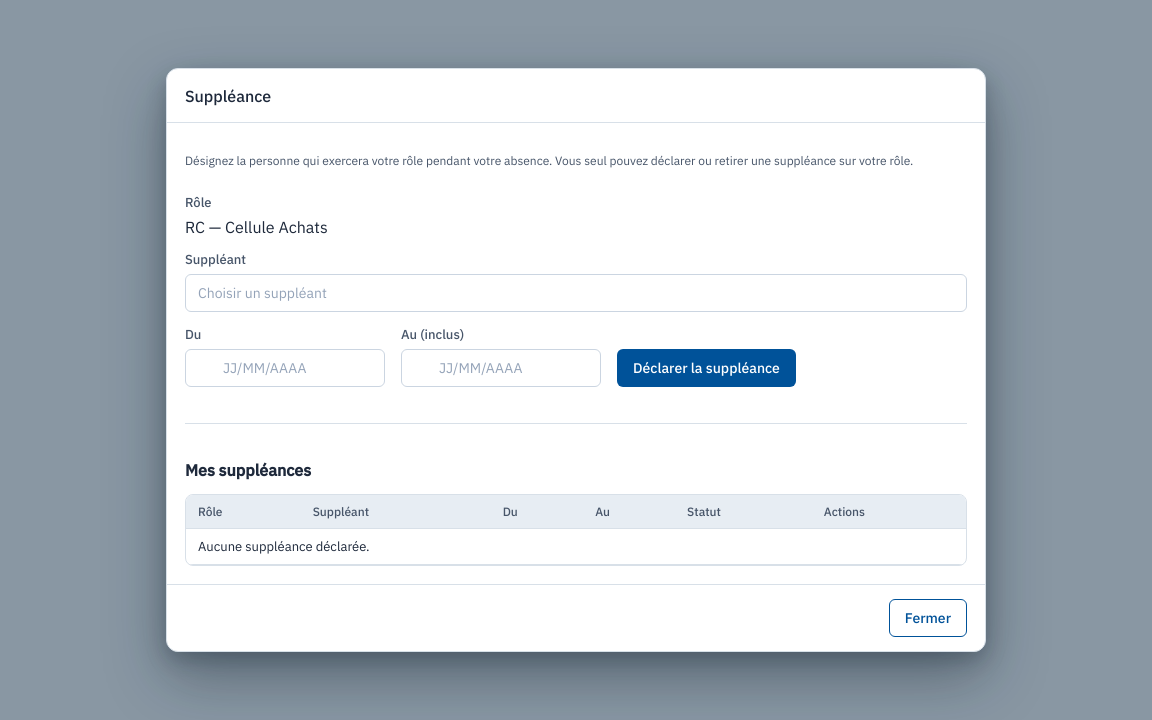
Test: SuppleanceModal — déclaration › accepte une suppléance qui commence aujourd'hui
Step 1. Click the button "Choisir un suppléant" → click(262, 293), box [185, 274, 967, 312]
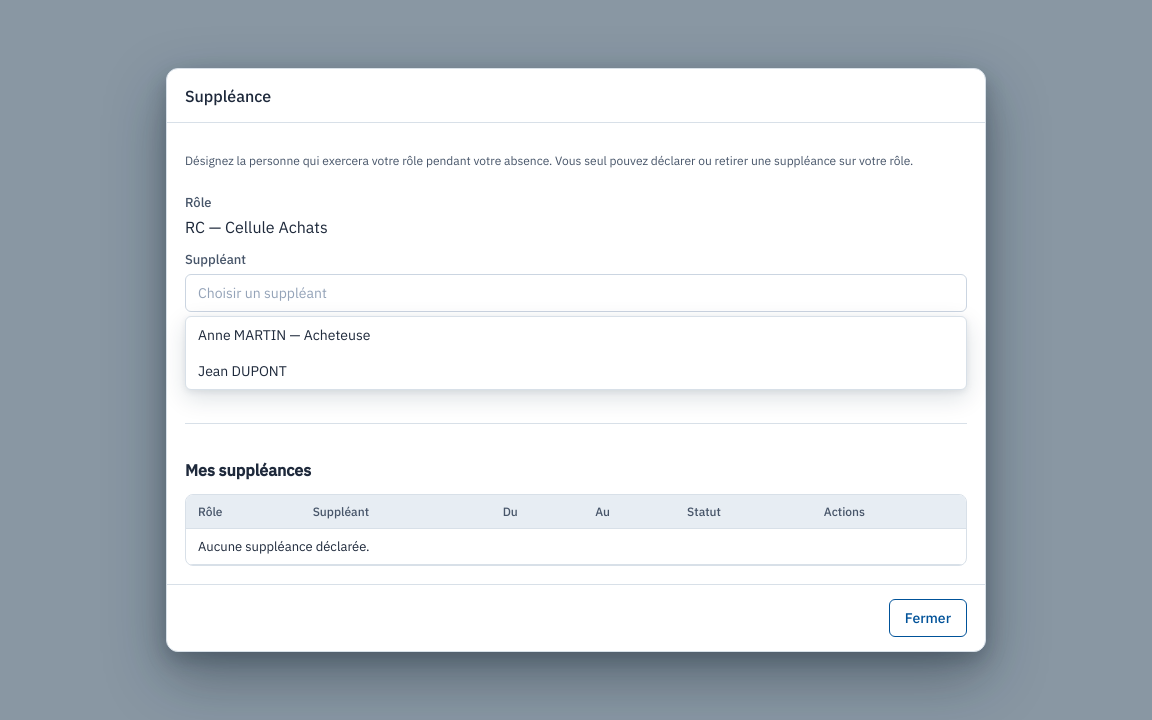
Step 2. Click the text "Anne MARTIN — Acheteuse" → click(284, 335), box [198, 326, 370, 344]
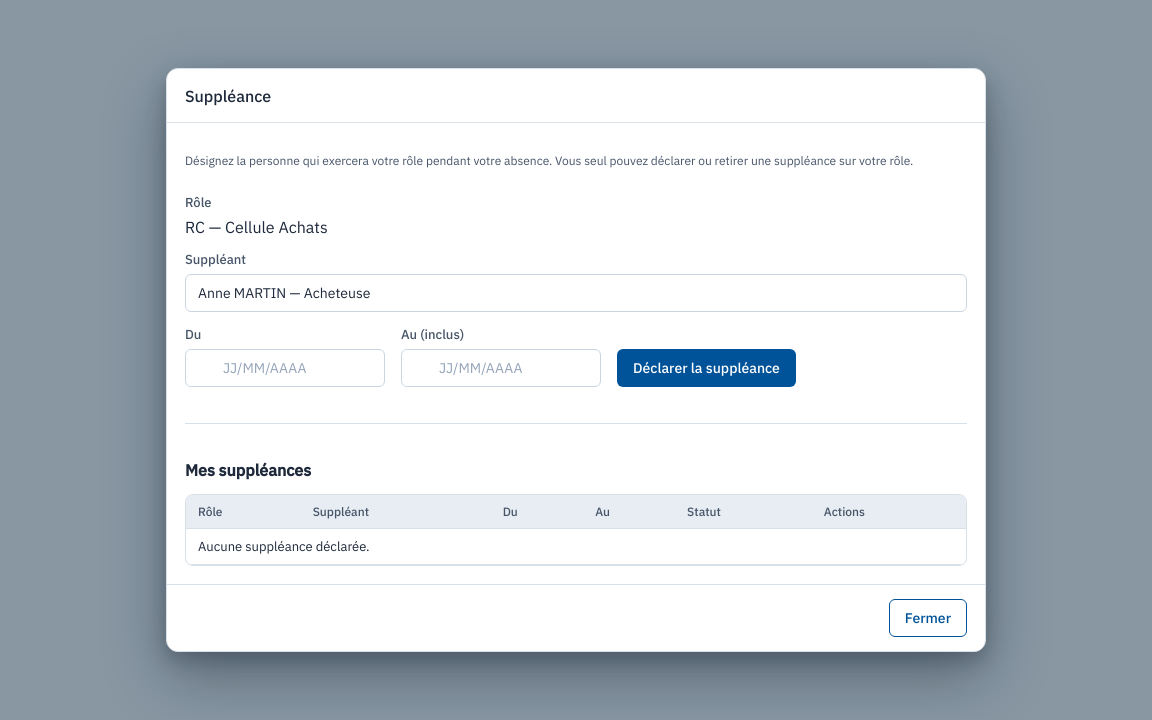
Step 3. Type "20/09/2026" into the field named "Date de début" → (296, 368), box [221, 358, 372, 378]
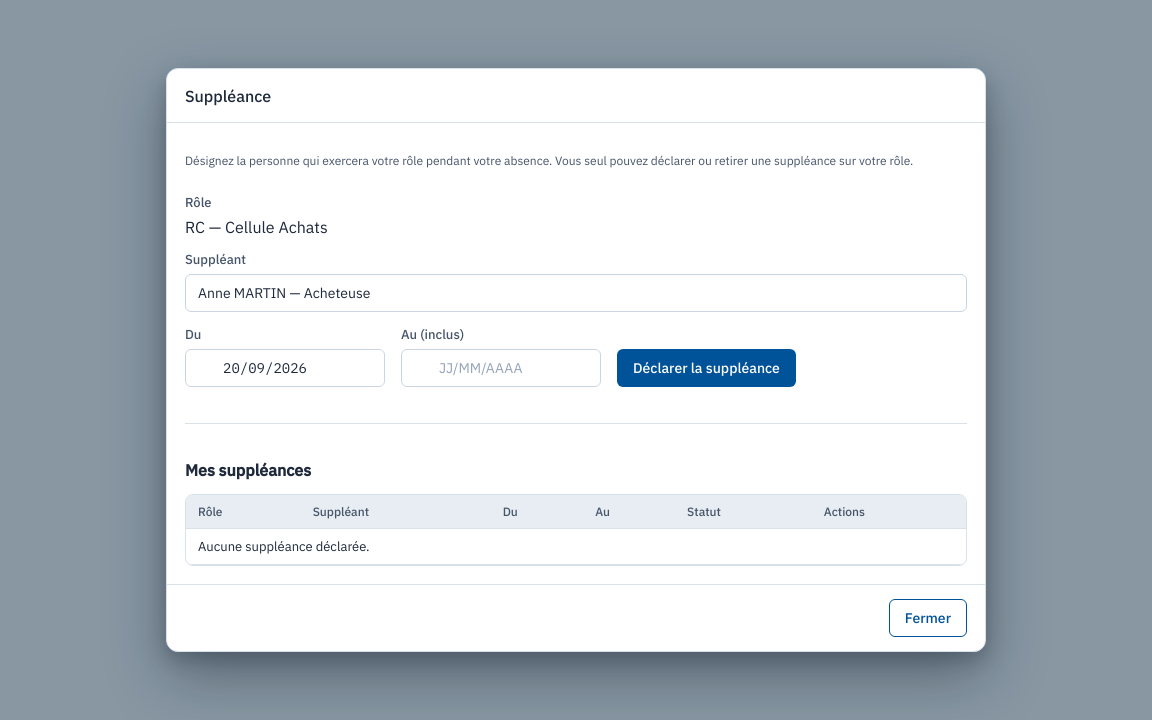
Step 4. Type "20/09/2026" into the field named "Date de fin" → (512, 368), box [437, 358, 588, 378]
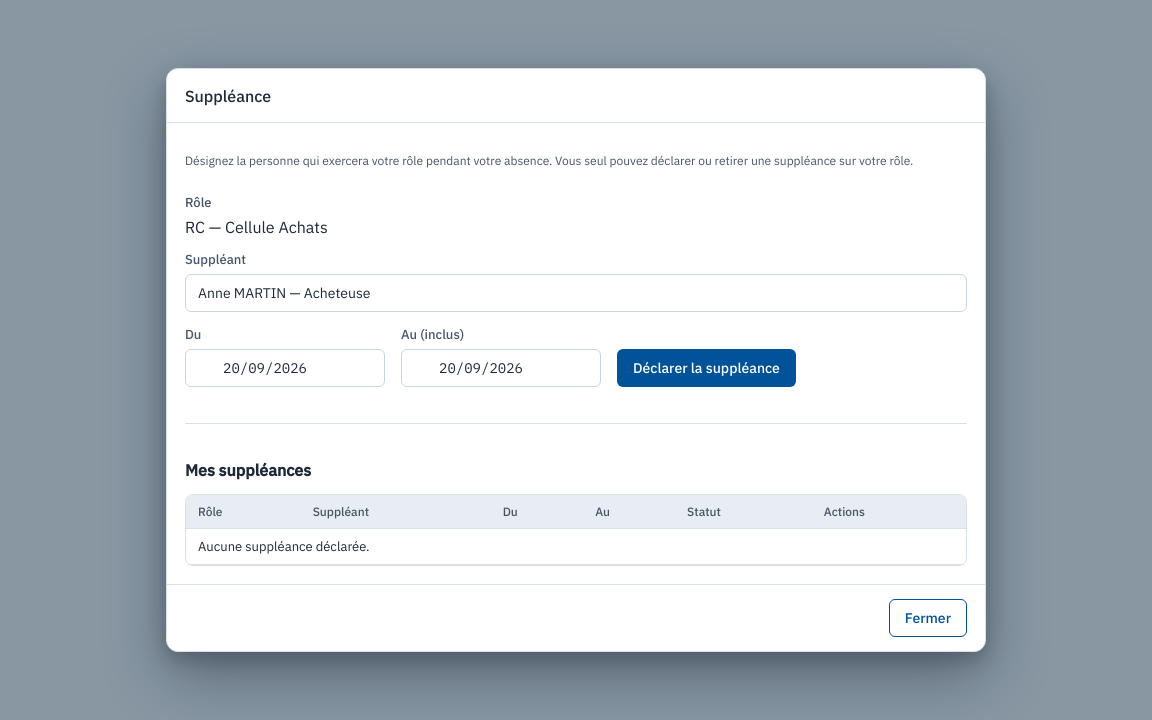
Step 5. Click the button "Déclarer la suppléance" → click(706, 368), box [617, 349, 796, 387]
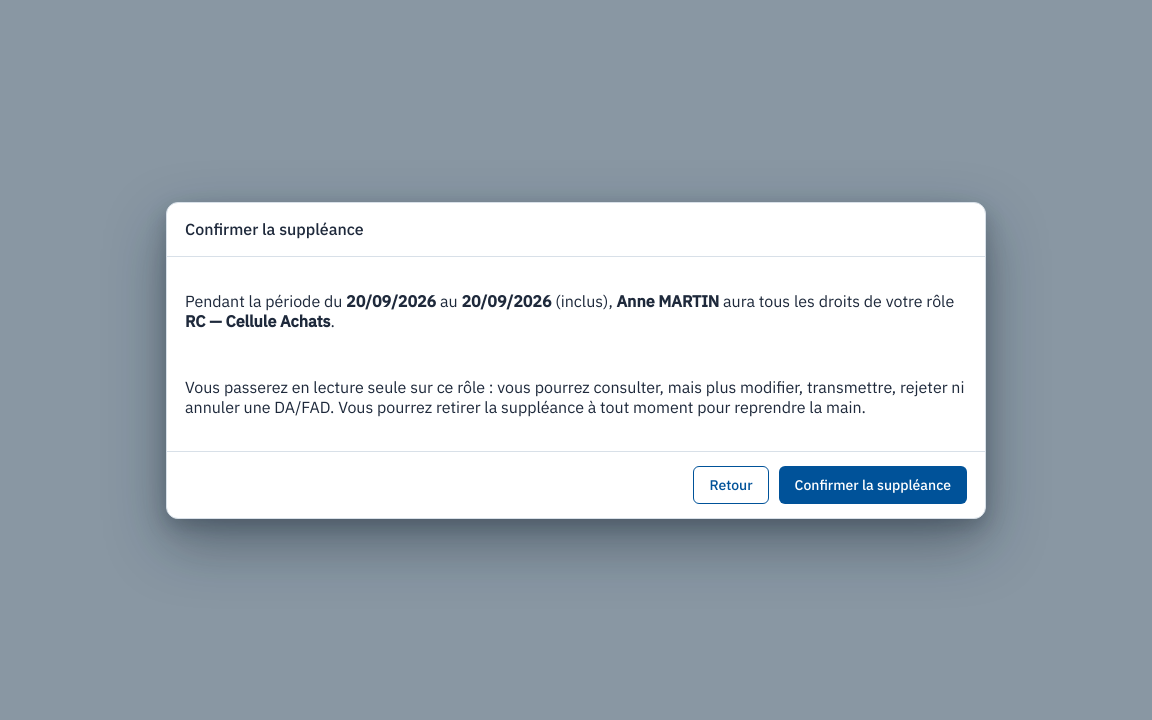
Expected: the heading "Confirmer la suppléance" is shown, [185, 219, 364, 239]
